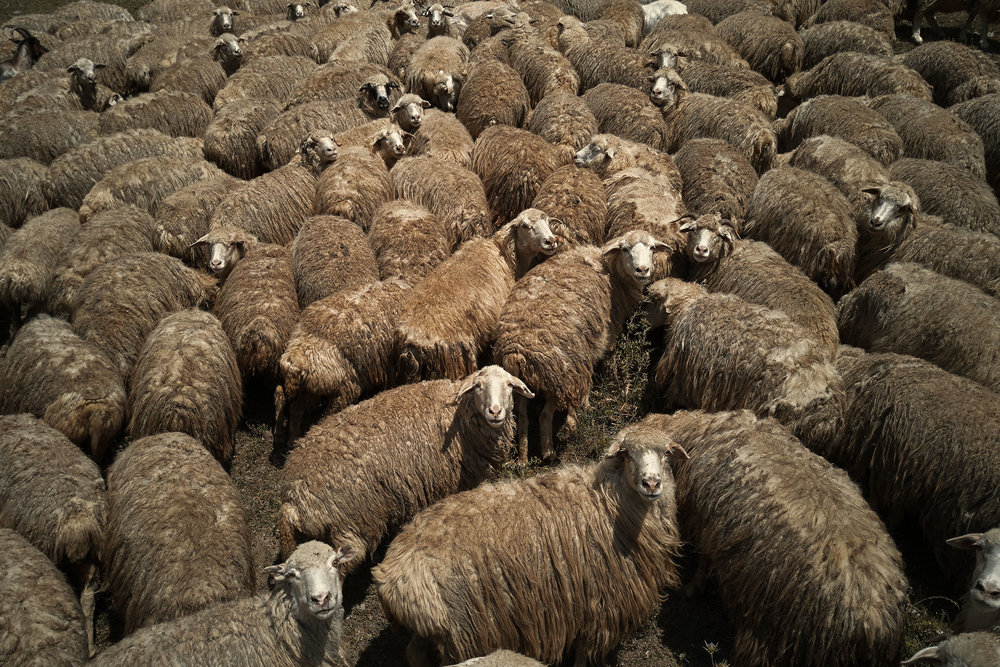sheep: (641, 404, 910, 667), (390, 411, 682, 652), (280, 342, 529, 527), (619, 279, 833, 440), (400, 206, 562, 394), (801, 333, 996, 487), (179, 523, 358, 667), (805, 248, 978, 391), (274, 222, 423, 388), (105, 431, 221, 641), (790, 109, 943, 255), (5, 302, 118, 492), (519, 227, 639, 401), (753, 19, 915, 142), (573, 104, 685, 274), (130, 312, 251, 465), (165, 65, 308, 194), (179, 226, 285, 392), (1, 377, 90, 559), (40, 69, 185, 172), (564, 8, 739, 92), (715, 166, 847, 272), (311, 69, 439, 167), (54, 233, 155, 342), (462, 92, 554, 211), (423, 23, 553, 106), (303, 8, 429, 66), (686, 120, 750, 223), (203, 9, 303, 73)
